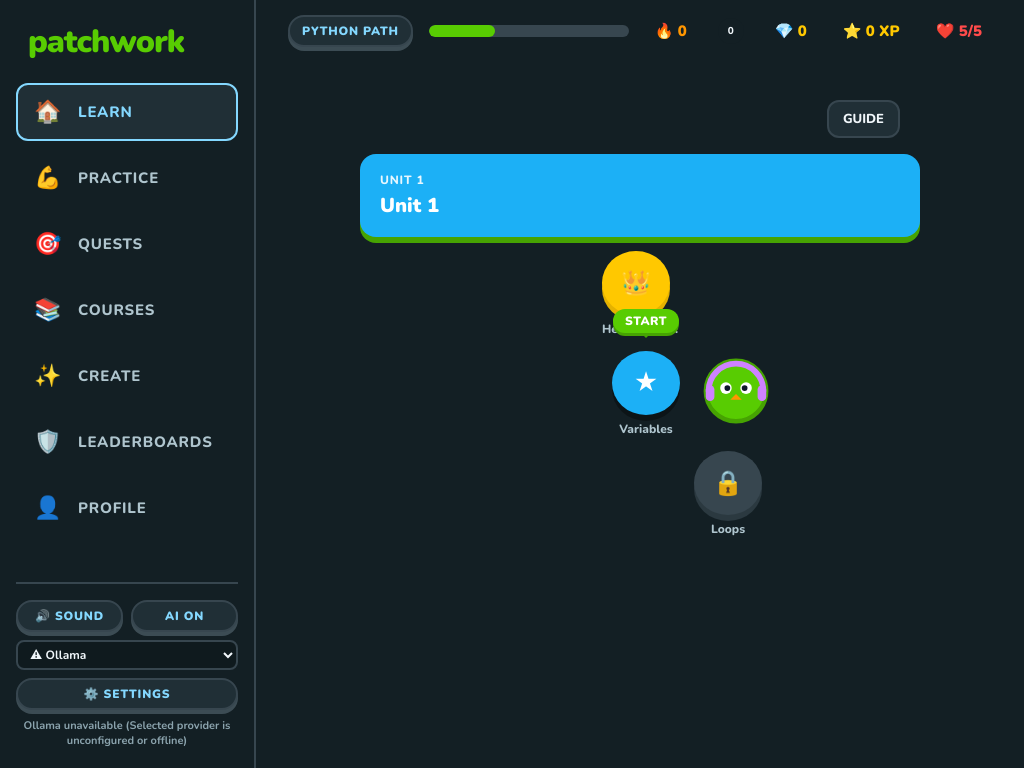
Lesson navigation › uses browser history so back returns to the course map instead of leaving the app
The image size is (1024, 768).
Click the button with aria-label "Variables — Current lesson" at (646, 383), box [612, 351, 680, 415]
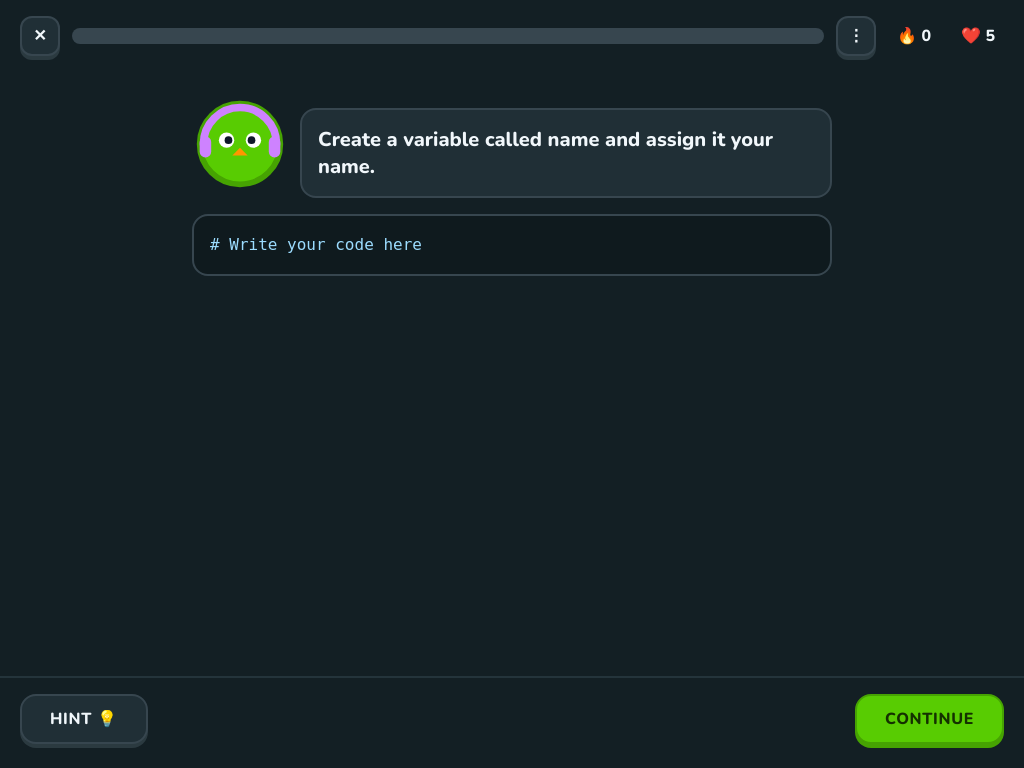
Result: the button named "Quit lesson" is shown
Click the button named "Quit lesson" at (40, 36), box [20, 16, 60, 56]
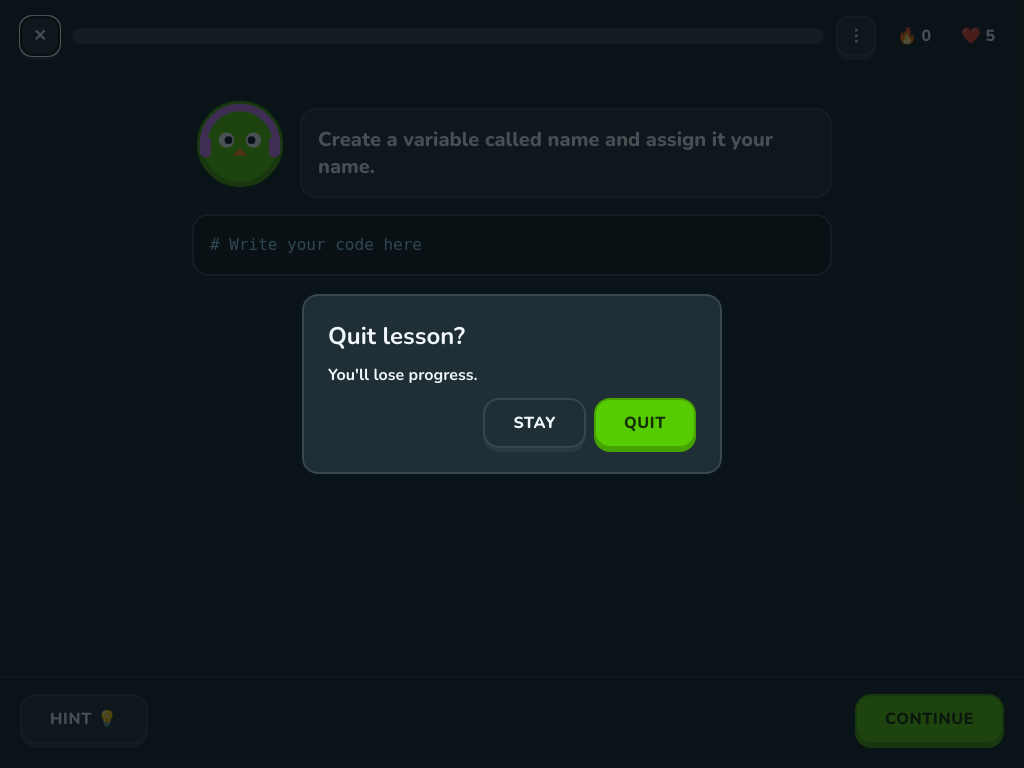
Click the button "Quit" at (645, 423), box [594, 398, 696, 448]
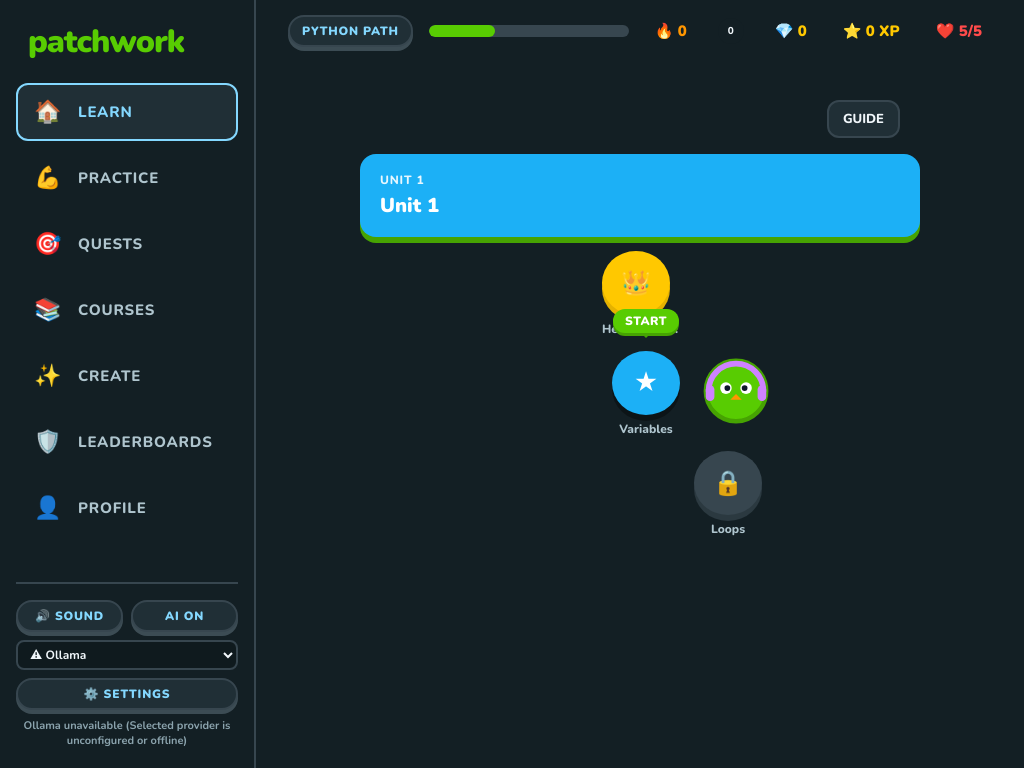
Result: the navigation bar named "Lessons" is shown at [360, 138, 920, 567]
